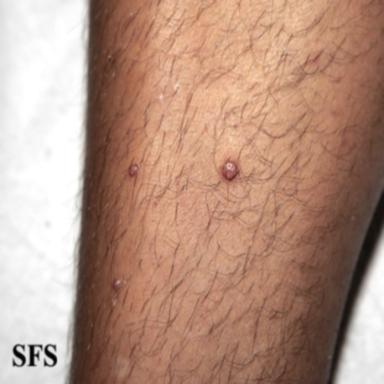Molluscum-Contagiosum: (222, 161, 237, 181), (128, 164, 139, 176), (113, 279, 122, 290)
